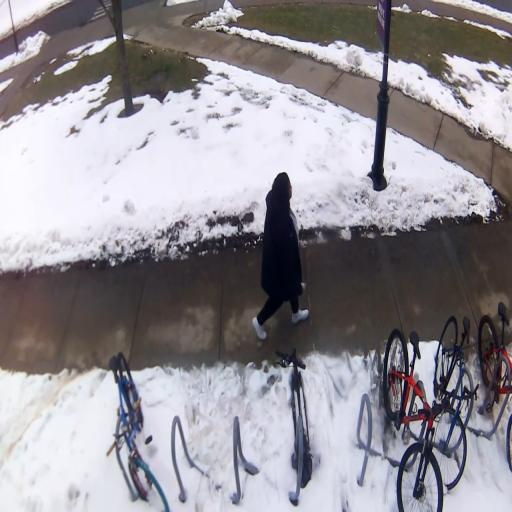pessoa: (249, 167, 310, 344)
